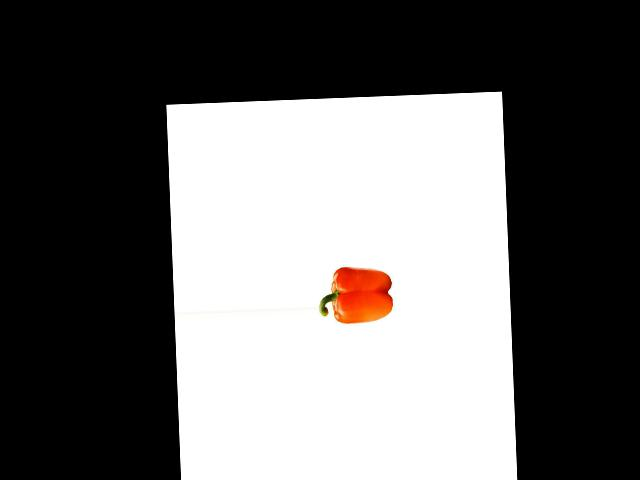bell_pepper: (317, 259, 394, 331)
